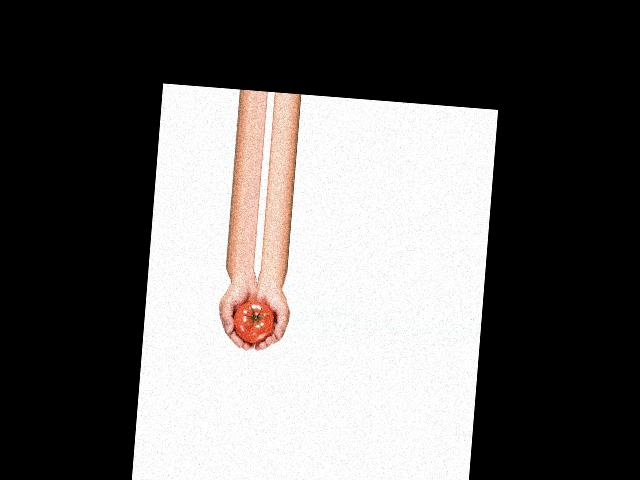tomato: (231, 300, 275, 344)
